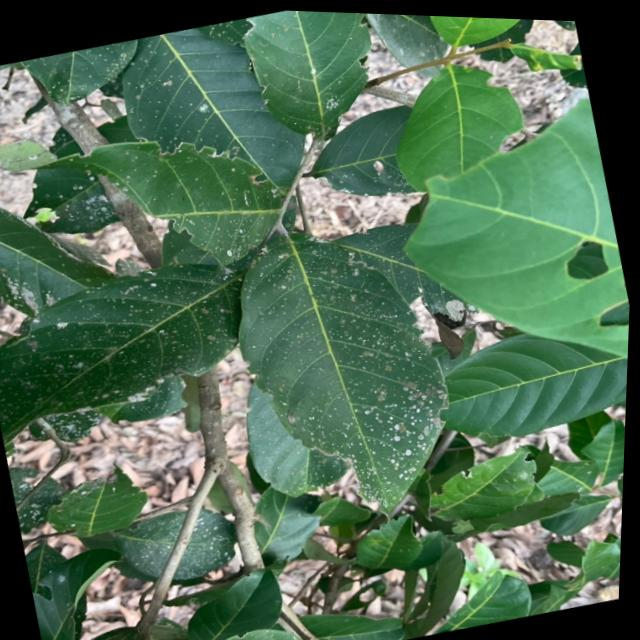Algal Leaf Spot: (246, 214, 481, 516), (0, 248, 245, 438), (38, 1, 529, 85), (114, 117, 271, 261)
